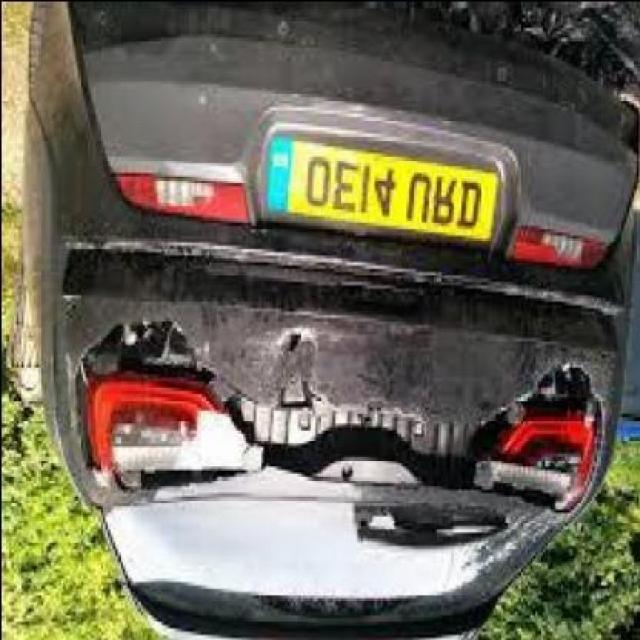damage: (68, 304, 613, 522)
